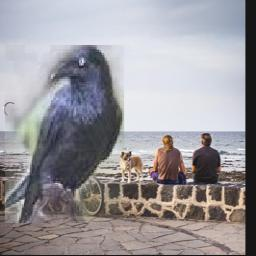Crow: (5, 45, 124, 223)
